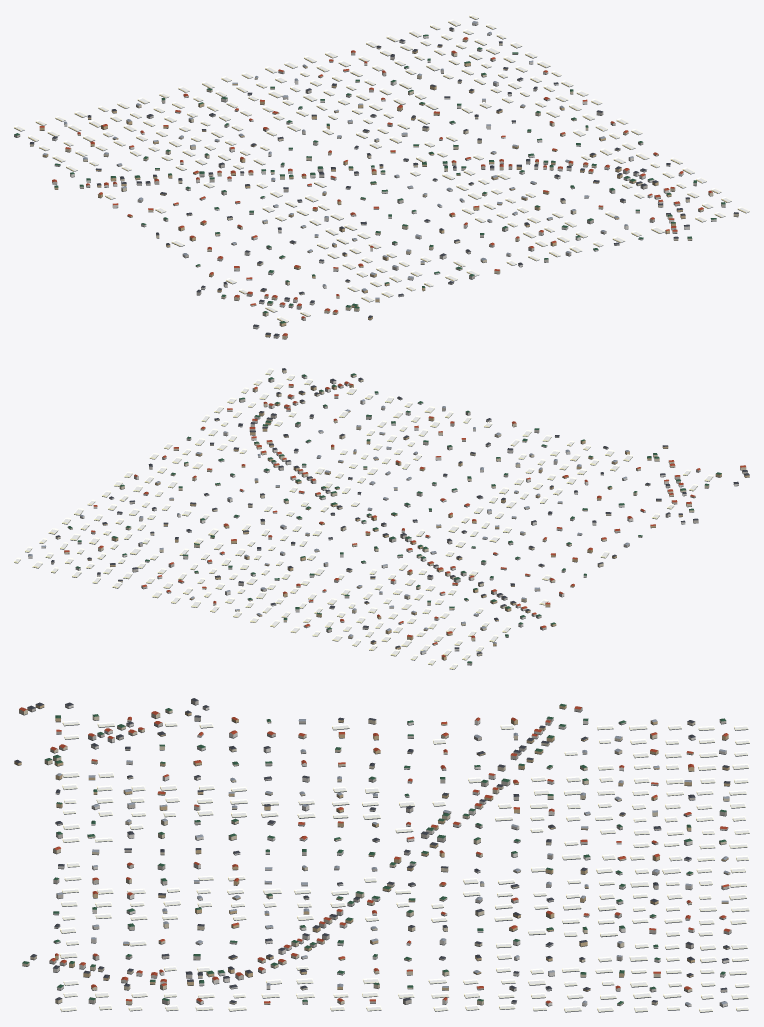
Rendered from buildings_T_E08_S03.glb.
3 views of the same model, one above another, from view 1: azimuth 30°, elevation 25°; view 2: azimuth 150°, elevation 25°; view 3: azimuth 270°, elevation 25° (orthographic). The views are drawn at different scales.
Parts seen in each view (by area): view 1: T_E08_S03_roofs_agri_greenhouse_arch, T_E08_S03_slope_seating_foundations, T_E08_S03_walls_wall_dalat_cream_stucco, T_E08_S03_walls_wall_french_ochre_villa, T_E08_S03_walls_wall_modern_warm_white, T_E08_S03_walls_wall_pastel_sand_gray, T_E08_S03_roofs_roof_slate_French_villa_hip, T_E08_S03_roofs_roof_terracotta_gable, T_E08_S03_roofs_roof_pine_green_hip, T_E08_S03_roofs_roof_zinc_silver_gable; view 2: T_E08_S03_roofs_agri_greenhouse_arch, T_E08_S03_slope_seating_foundations, T_E08_S03_walls_wall_dalat_cream_stucco, T_E08_S03_walls_wall_french_ochre_villa, T_E08_S03_walls_wall_modern_warm_white, T_E08_S03_walls_wall_pastel_sand_gray, T_E08_S03_roofs_roof_terracotta_gable, T_E08_S03_roofs_roof_slate_French_villa_hip, T_E08_S03_roofs_roof_pine_green_hip, T_E08_S03_roofs_roof_zinc_silver_gable; view 3: T_E08_S03_roofs_agri_greenhouse_arch, T_E08_S03_slope_seating_foundations, T_E08_S03_walls_wall_dalat_cream_stucco, T_E08_S03_walls_wall_modern_warm_white, T_E08_S03_walls_wall_french_ochre_villa, T_E08_S03_walls_wall_pastel_sand_gray, T_E08_S03_roofs_roof_terracotta_gable, T_E08_S03_roofs_roof_slate_French_villa_hip, T_E08_S03_roofs_roof_pine_green_hip, T_E08_S03_roofs_roof_zinc_silver_gable.
Part boxes in pixels (x1,y1,x2,y2): T_E08_S03_roofs_agri_greenhouse_arch: (14, 14, 749, 322); T_E08_S03_slope_seating_foundations: (14, 16, 749, 339); T_E08_S03_walls_wall_dalat_cream_stucco: (30, 38, 738, 339); T_E08_S03_walls_wall_french_ochre_villa: (39, 45, 685, 336); T_E08_S03_walls_wall_modern_warm_white: (52, 22, 716, 328); T_E08_S03_walls_wall_pastel_sand_gray: (14, 28, 725, 338); T_E08_S03_roofs_roof_slate_French_villa_hip: (30, 27, 738, 336); T_E08_S03_roofs_roof_terracotta_gable: (39, 37, 712, 336); T_E08_S03_roofs_roof_pine_green_hip: (14, 34, 725, 323); T_E08_S03_roofs_roof_zinc_silver_gable: (43, 21, 633, 299); T_E08_S03_roofs_agri_greenhouse_arch: (14, 368, 713, 669); T_E08_S03_slope_seating_foundations: (14, 370, 749, 669); T_E08_S03_walls_wall_dalat_cream_stucco: (55, 369, 746, 655); T_E08_S03_walls_wall_french_ochre_villa: (87, 384, 749, 660); T_E08_S03_walls_wall_modern_warm_white: (28, 375, 738, 654); T_E08_S03_walls_wall_pastel_sand_gray: (51, 378, 747, 664); T_E08_S03_roofs_roof_terracotta_gable: (64, 381, 745, 657); T_E08_S03_roofs_roof_slate_French_villa_hip: (51, 368, 749, 653); T_E08_S03_roofs_roof_pine_green_hip: (68, 373, 721, 663); T_E08_S03_roofs_roof_zinc_silver_gable: (28, 399, 629, 652); T_E08_S03_roofs_agri_greenhouse_arch: (59, 720, 749, 1012); T_E08_S03_slope_seating_foundations: (14, 703, 749, 1012); T_E08_S03_walls_wall_dalat_cream_stucco: (19, 709, 730, 1005); T_E08_S03_walls_wall_modern_warm_white: (53, 704, 729, 1006); T_E08_S03_walls_wall_french_ochre_villa: (14, 705, 730, 991); T_E08_S03_walls_wall_pastel_sand_gray: (27, 699, 731, 1004); T_E08_S03_roofs_roof_terracotta_gable: (19, 706, 730, 1003); T_E08_S03_roofs_roof_slate_French_villa_hip: (14, 698, 730, 1003); T_E08_S03_roofs_roof_pine_green_hip: (22, 703, 726, 1004); T_E08_S03_roofs_roof_zinc_silver_gable: (56, 719, 729, 1005).
Size of the model in its own units: 1836 by 32.9 by 1846.
